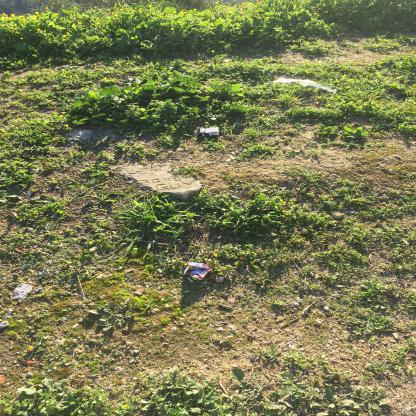karton: (185, 263, 213, 281), (199, 128, 221, 138)
